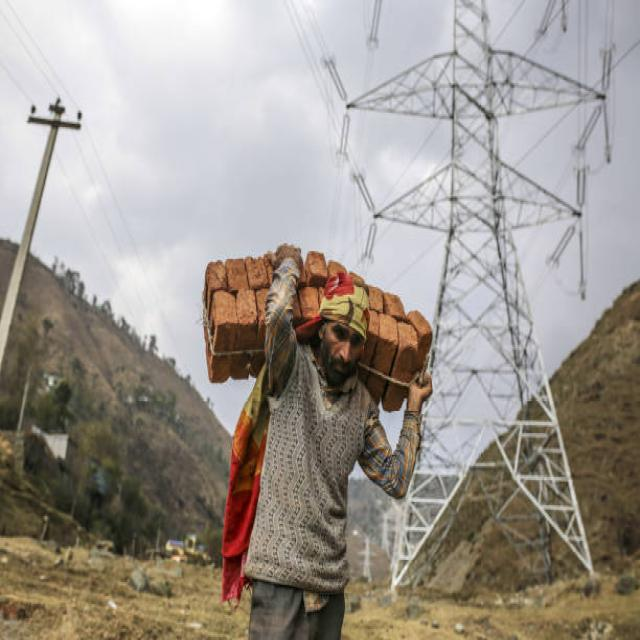civilian: (244, 249, 431, 638)
